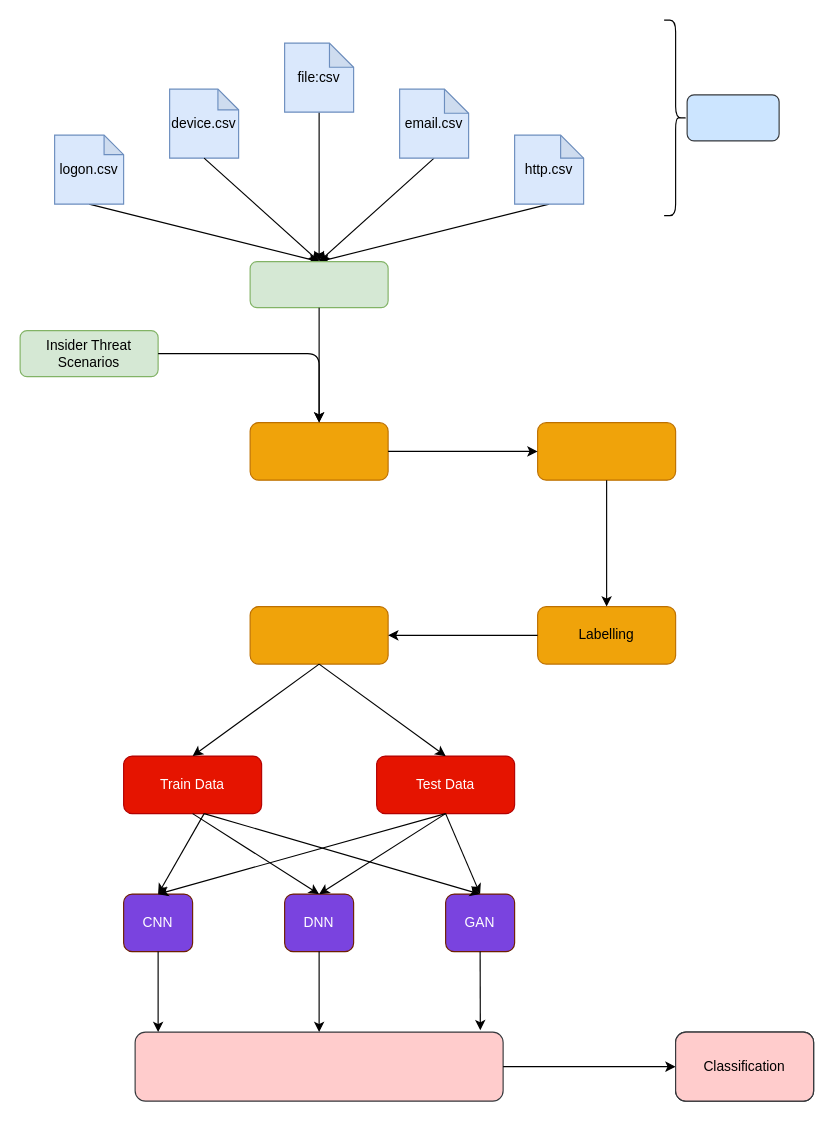
This 834x1121 diagram has some shape labels left out. The shapes that lost their labels are listed below. From the top down, each one's centre as x and y in pixels, then its label:
At point 732,117: "CERT r4.2".
At point 318,284: "Feature Extraction".
At point 318,450: "Master File Creation".
At point 606,450: "Normalization (MINMAX)".
At point 318,634: "Sampling (SMOTE)".
At point 318,1066: "Model Training and Evaluation".
